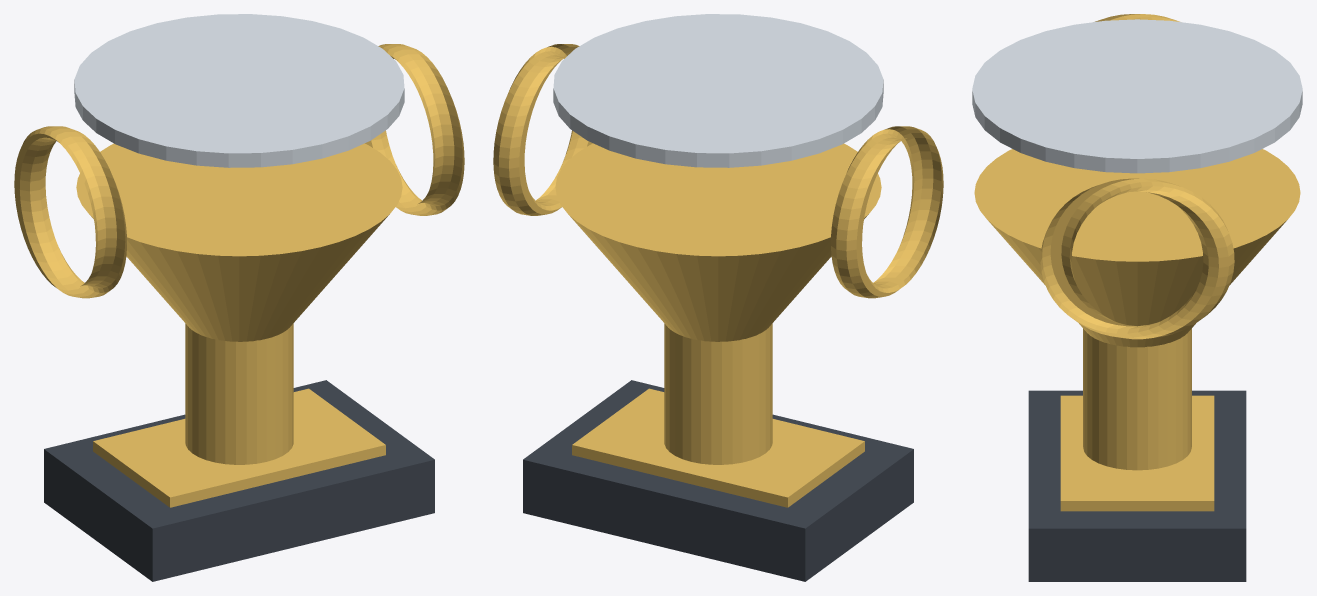
The model's file is championship_trophy.glb.
3 views of the same model, side by side, from view 1: azimuth 30°, elevation 25°; view 2: azimuth 150°, elevation 25°; view 3: azimuth 270°, elevation 25° (orthographic).
Parts seen in each view (by area): view 1: Cup_Rim, Trophy_Cup, Walnut_Base, Base_Trim, Stem, Handle_-0.43, Handle_0.43; view 2: Cup_Rim, Trophy_Cup, Walnut_Base, Base_Trim, Stem, Handle_-0.43, Handle_0.43; view 3: Cup_Rim, Trophy_Cup, Walnut_Base, Stem, Handle_0.43, Base_Trim.
Boxes of the visible parts, x1=… form: Cup_Rim: x1=74, y1=14, x2=404, y2=167; Trophy_Cup: x1=76, y1=143, x2=402, y2=341; Walnut_Base: x1=44, y1=380, x2=434, y2=581; Base_Trim: x1=93, y1=388, x2=385, y2=507; Stem: x1=185, y1=323, x2=293, y2=464; Handle_-0.43: x1=14, y1=126, x2=126, y2=298; Handle_0.43: x1=365, y1=44, x2=464, y2=215; Cup_Rim: x1=553, y1=14, x2=883, y2=167; Trophy_Cup: x1=555, y1=143, x2=881, y2=341; Walnut_Base: x1=523, y1=380, x2=913, y2=581; Base_Trim: x1=572, y1=388, x2=864, y2=507; Stem: x1=664, y1=323, x2=772, y2=464; Handle_-0.43: x1=831, y1=126, x2=943, y2=298; Handle_0.43: x1=493, y1=44, x2=592, y2=215; Cup_Rim: x1=972, y1=19, x2=1302, y2=173; Trophy_Cup: x1=974, y1=149, x2=1300, y2=347; Walnut_Base: x1=1028, y1=390, x2=1246, y2=581; Stem: x1=1083, y1=328, x2=1191, y2=470; Handle_0.43: x1=1040, y1=178, x2=1234, y2=339; Base_Trim: x1=1060, y1=395, x2=1214, y2=511.
Size of the model in its own units: 0.9279 by 1.03 by 0.73.
